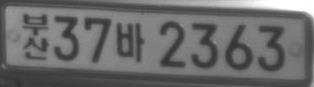2: (159, 21, 185, 67)
3: (191, 22, 219, 69), (257, 25, 285, 72), (53, 15, 79, 61)
6: (224, 24, 253, 70)
7: (84, 16, 111, 63)
바: (115, 21, 146, 63)
부산_V: (22, 12, 49, 60)
